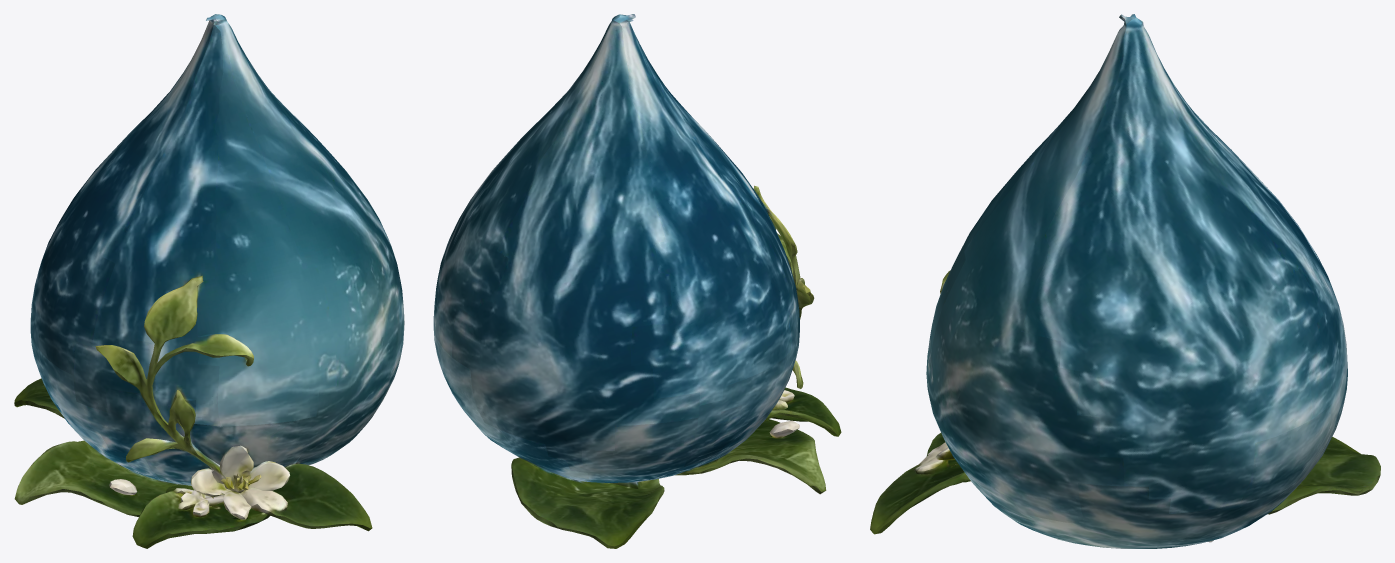
The model's file is drop.glb.
3 views of the same model, side by side, from view 1: azimuth 30°, elevation 25°; view 2: azimuth 150°, elevation 25°; view 3: azimuth 270°, elevation 25° (orthographic). The views are drawn at different scales.
Visible parts, largest first — view 1: geometry_0; view 2: geometry_0; view 3: geometry_0.
Part boxes in pixels (bbox=[...]): geometry_0: bbox=[14, 14, 404, 548]; geometry_0: bbox=[433, 14, 841, 548]; geometry_0: bbox=[870, 14, 1380, 548].
Size of the model in its own units: 0.1298 by 0.15 by 0.1391.
1 material, 1 textured.
